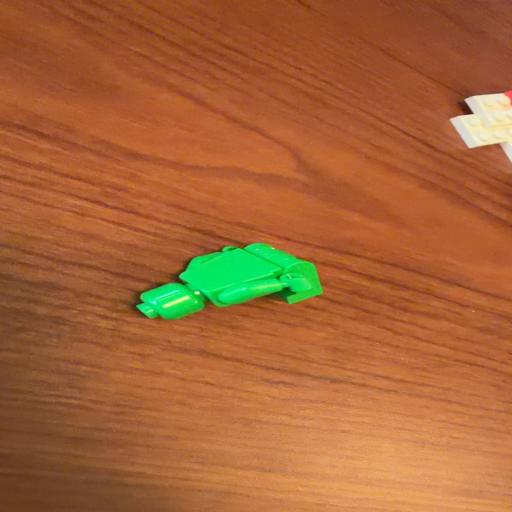UnoQ-minifig-detector: (136, 243, 322, 320)
